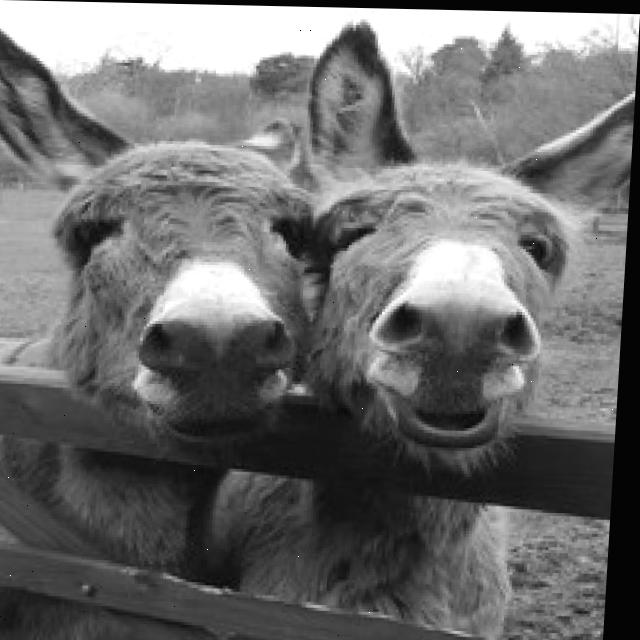Donkey: (194, 17, 637, 640), (0, 14, 333, 640)
